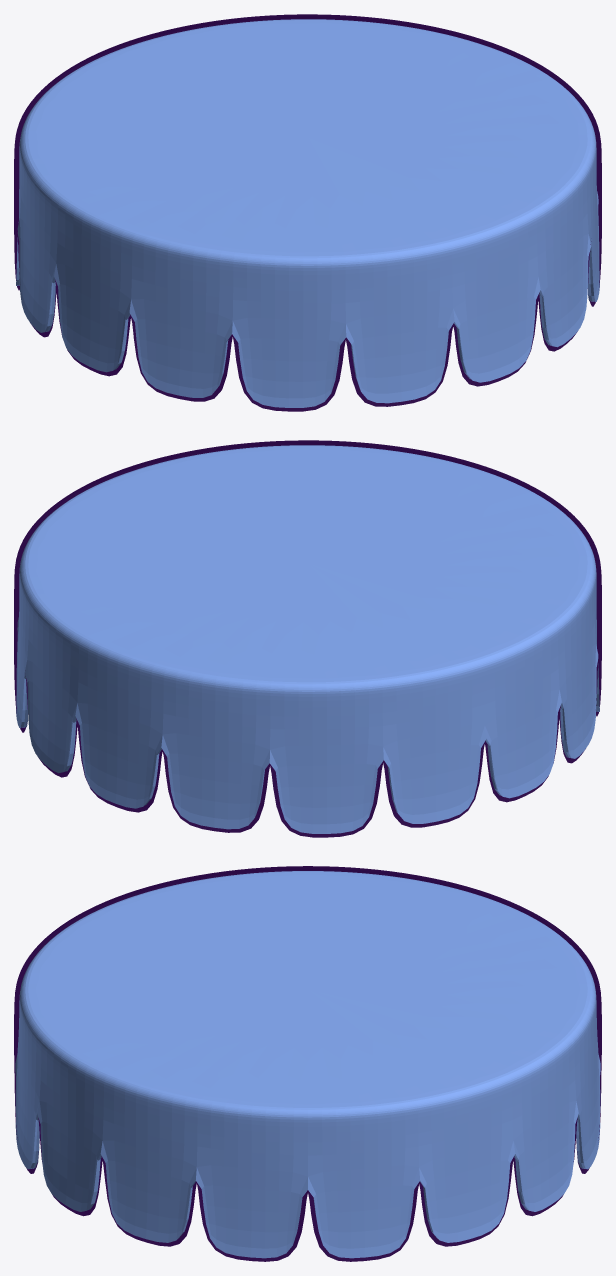
File: circulo azul.glb
The picture shows the model from 3 angles, top to bottom: view 1: azimuth 30°, elevation 25°; view 2: azimuth 150°, elevation 25°; view 3: azimuth 270°, elevation 25°; orthographic projection.
Visible parts, largest first — view 1: Cylinder.017; view 2: Cylinder.017; view 3: Cylinder.017.
Boxes of the visible parts, bbox=[...] form: Cylinder.017: bbox=[14, 14, 601, 411]; Cylinder.017: bbox=[14, 440, 601, 837]; Cylinder.017: bbox=[14, 866, 601, 1261].
Size of the model in its own units: 22.21 by 6.54 by 22.21.
